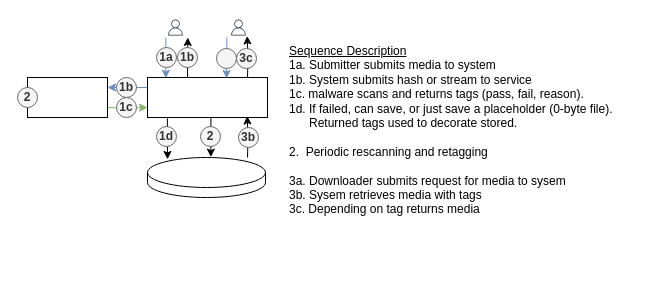
This 645x285 diagram has some shape labels left out. Here are the shapes that lost their labels. From the top down, the box of each, then its label:
(216, 48, 236, 68): 3a
(26, 76, 108, 118): Malware Detection Service
